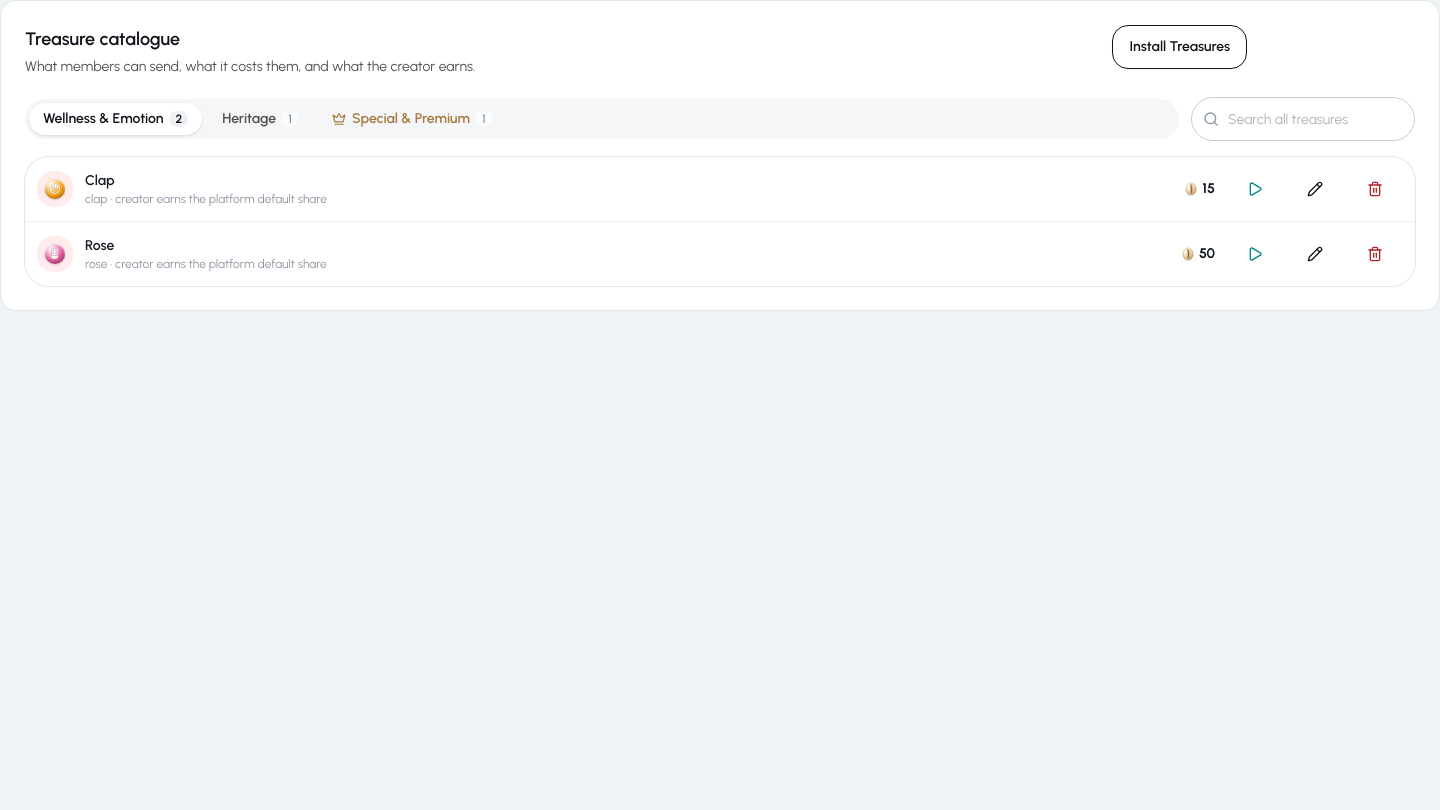
Test: editing a treasure › opens with its values and will not let the id change
Check: the text "Rose" is shown, box x1=85 y1=237 x2=114 y2=254
Click the button named "Edit Rose" at (1315, 254), box x1=1287 y1=234 x2=1343 y2=274
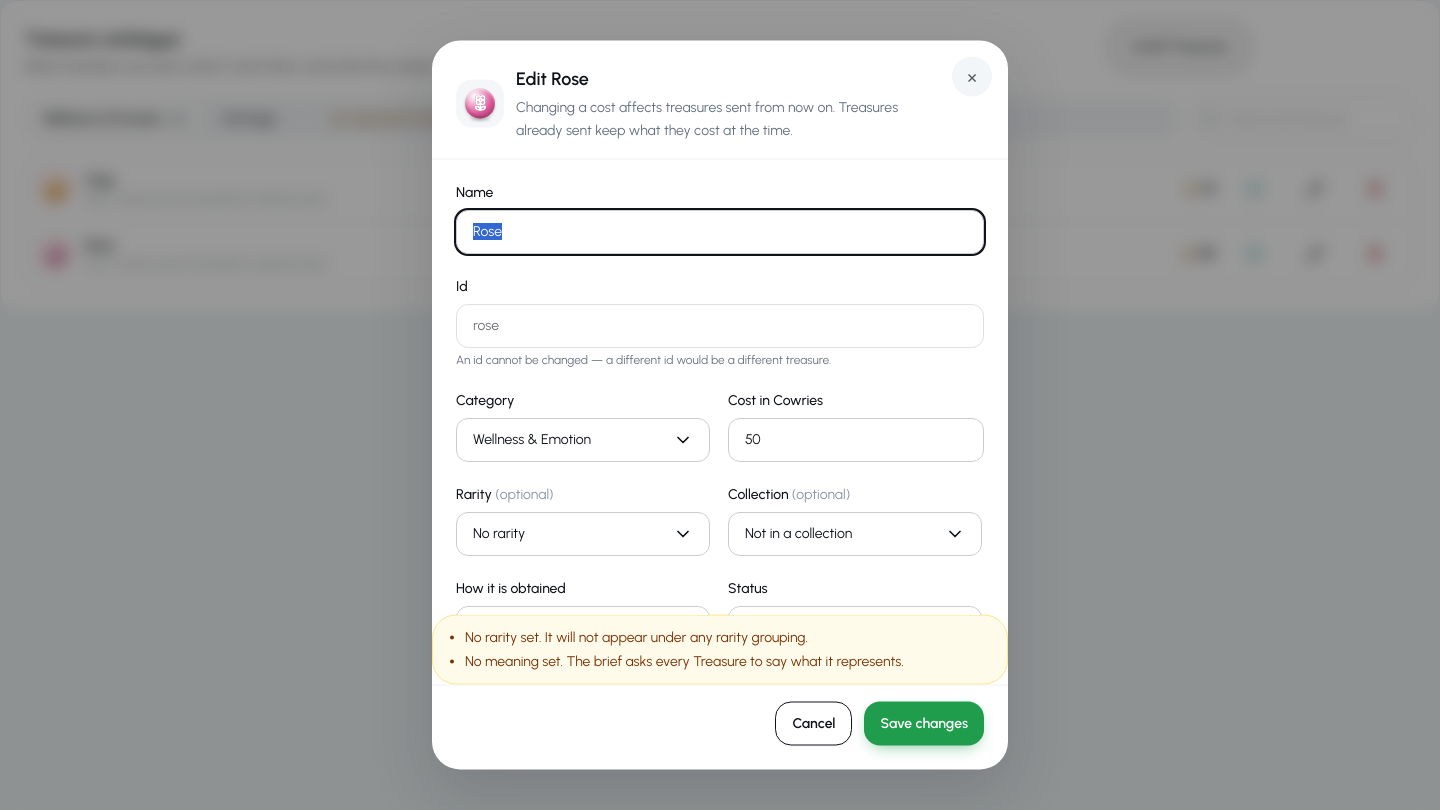
Check: the field labelled "Name" holds "Rose", box x1=456 y1=209 x2=984 y2=253
Check: the number field labelled "Cost in Cowries" holds "50", box x1=728 y1=417 x2=984 y2=461
Check: the field labelled "Id" is disabled, box x1=456 y1=303 x2=984 y2=347
